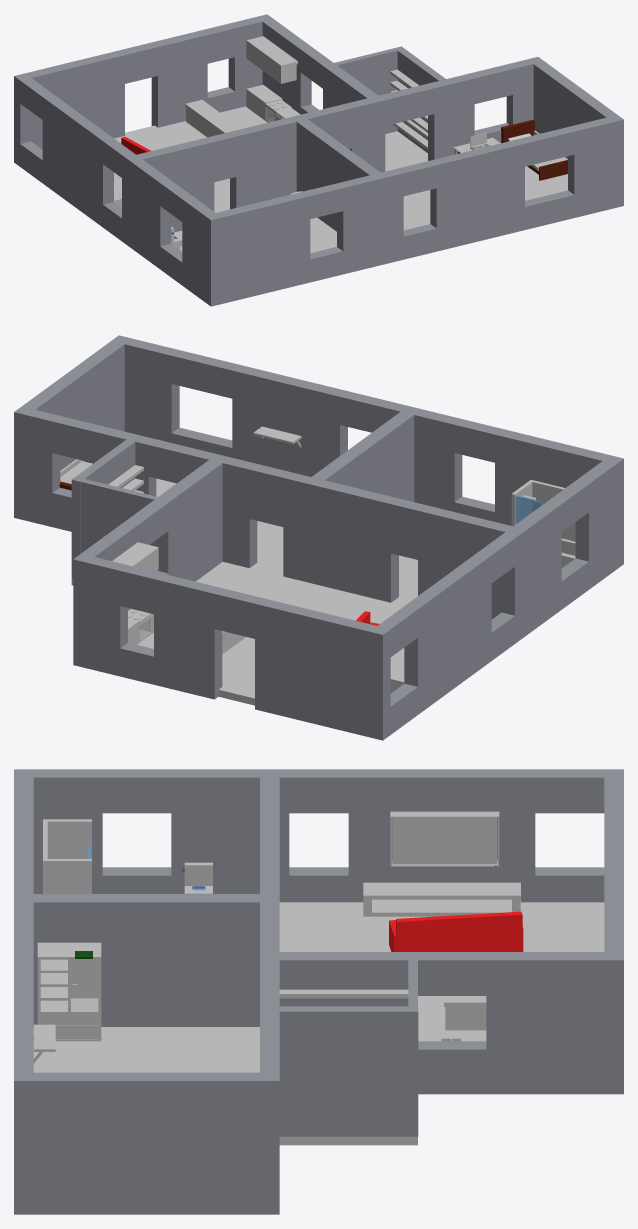
3 views of the same model, one above another, from view 1: azimuth 30°, elevation 25°; view 2: azimuth 150°, elevation 25°; view 3: azimuth 270°, elevation 25° (orthographic). The views are drawn at different scales.
Parts seen in each view (by area): view 1: Part97, Part17, Part207, Part7, Part90, Part219, Part96, Part217, Part218, Part220, Part16, Part206 (+39 smaller); view 2: Part7, Part90, Part96, Part17, Part219, Part86, Part97, Part1, Part2, Part205, Part15, Part206 (+35 smaller); view 3: Part205, Part206, Part96, Part35, Part17, Part87, Part99, Part93, Part94, Part86, Union3, Part16 (+33 smaller).
Part boxes in pixels (box(x1,y1,x2,y2)): Part97: box(204, 191, 310, 305); Part17: box(42, 94, 113, 226); Part207: box(337, 168, 403, 274); Part7: box(25, 50, 124, 149); Part90: box(230, 114, 307, 209); Part219: box(458, 139, 524, 243); Part96: box(114, 106, 430, 252); Part217: box(464, 183, 623, 244); Part218: box(568, 117, 623, 214); Part220: box(459, 118, 623, 180); Part16: box(182, 196, 221, 306); Part206: box(296, 119, 380, 231); Part7: box(255, 598, 376, 736); Part90: box(303, 477, 398, 602); Part96: box(137, 521, 417, 705); Part17: box(404, 552, 491, 714); Part219: box(232, 365, 313, 475); Part86: box(155, 460, 222, 581); Part97: box(495, 429, 623, 569); Part1: box(73, 554, 221, 628); Part2: box(154, 573, 222, 699); Part205: box(14, 338, 127, 518); Part15: box(73, 554, 127, 676); Part206: box(312, 412, 414, 501); Part205: box(24, 1072, 279, 1214); Part206: box(33, 894, 259, 1026); Part96: box(33, 902, 604, 1072); Part35: box(260, 1006, 418, 1136); Part17: box(348, 769, 535, 902); Part87: box(279, 952, 623, 995); Part99: box(171, 769, 289, 901); Part93: box(486, 952, 623, 1093); Part94: box(418, 1041, 623, 1094); Part86: box(279, 952, 417, 1006); Union3: box(37, 942, 101, 1041); Part16: box(14, 769, 102, 893).
Bounding box in the file's own units: 75 × 15 × 62.
